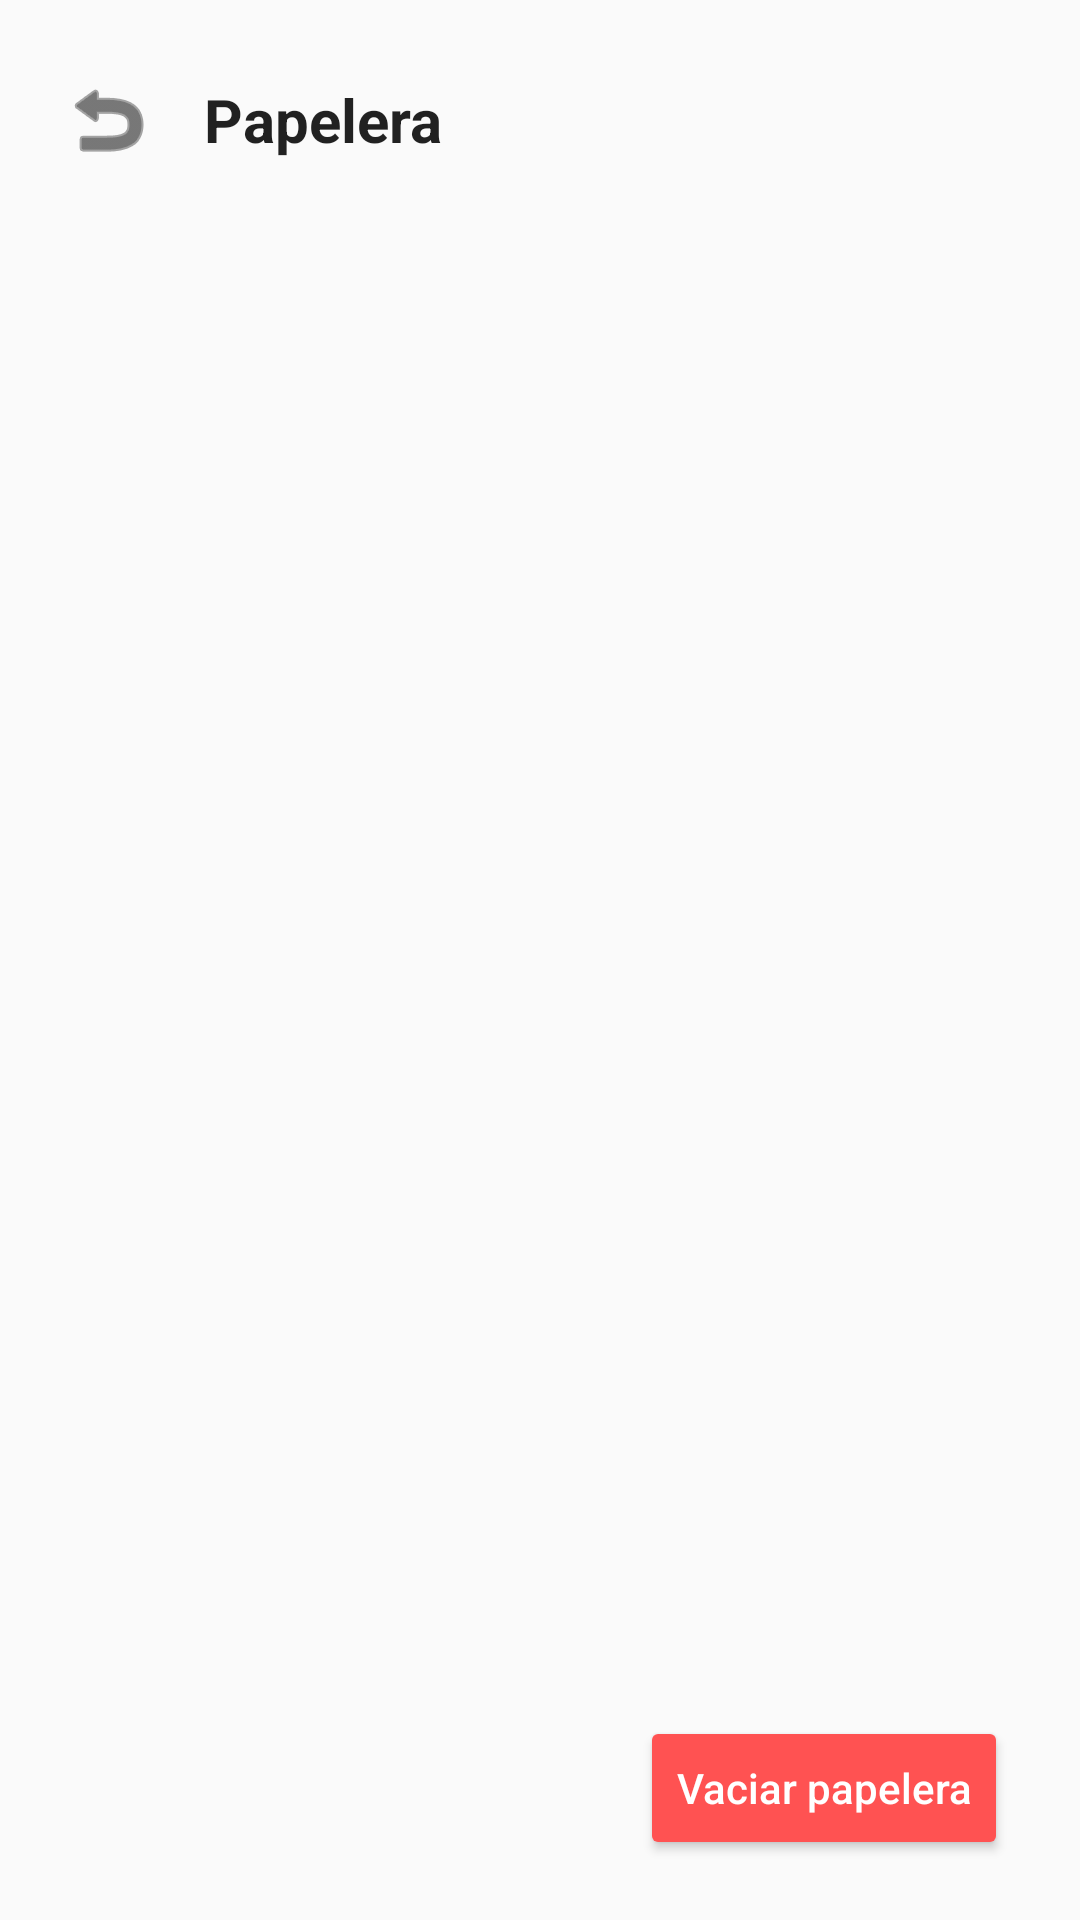

Where to tap for icons on this 1080x1920 app screen, as [x,y]:
Atrás: [109,120]
